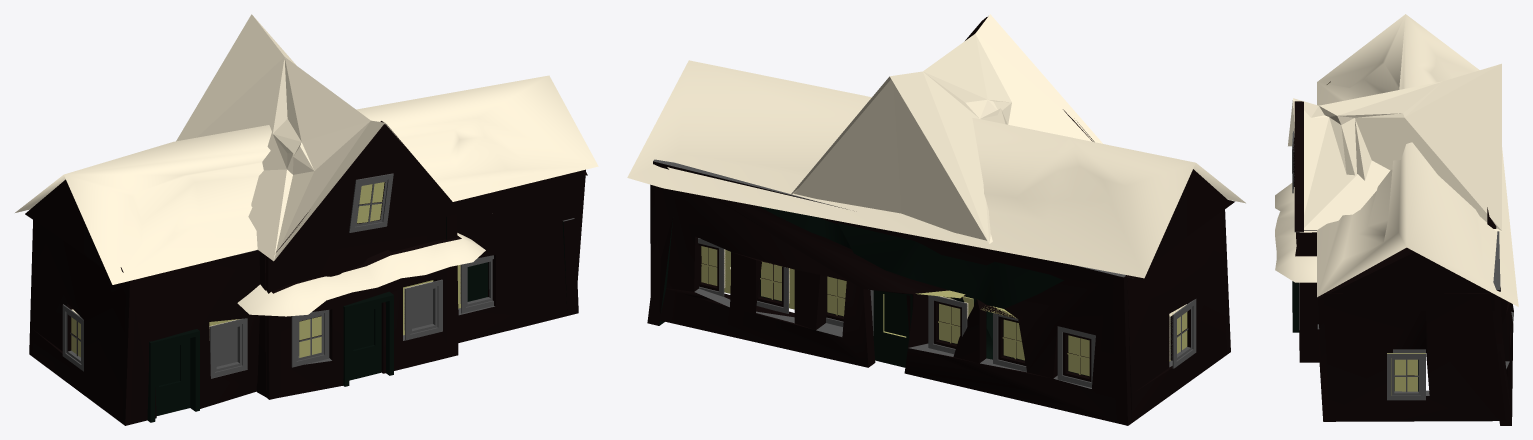
File: CasaEstado3.fbx
3 views of the same model, side by side, from view 1: azimuth 30°, elevation 25°; view 2: azimuth 150°, elevation 25°; view 3: azimuth 270°, elevation 25° (orthographic). The views are drawn at different scales.
Visible parts, largest first — view 1: Wall001, Plane001, Plane002, Box001, Plane003, PivotDoor002, PivotDoor001, Box003, AwningWindow002, AwningWindow005, AwningWindow010, AwningWindow011 (+4 smaller); view 2: Wall001, Plane001, Plane002, Box002, Box003, PivotDoor003, AwningWindow004, AwningWindow007, AwningWindow012, AwningWindow008, AwningWindow009, AwningWindow006 (+5 smaller); view 3: Wall001, Plane001, Plane002, Box004, Plane003, Box001, AwningWindow013, Box041, PivotDoor001.
Boxes of the visible parts, <box> form: Wall001: <box>29,169,585,425</box>; Plane001: <box>15,75,598,284</box>; Plane002: <box>176,14,402,261</box>; Box001: <box>276,121,461,256</box>; Plane003: <box>237,233,485,316</box>; PivotDoor002: <box>147,329,199,422</box>; PivotDoor001: <box>343,291,393,386</box>; Box003: <box>25,179,123,272</box>; AwningWindow002: <box>403,279,442,340</box>; AwningWindow005: <box>209,318,247,378</box>; AwningWindow010: <box>457,255,493,313</box>; AwningWindow011: <box>349,173,393,232</box>; Wall001: <box>647,159,1230,425</box>; Plane001: <box>627,60,1245,278</box>; Plane002: <box>790,14,1102,243</box>; Box002: <box>794,79,986,240</box>; Box003: <box>1125,169,1234,278</box>; PivotDoor003: <box>870,290,912,367</box>; AwningWindow004: <box>928,295,973,354</box>; AwningWindow007: <box>1057,326,1095,387</box>; AwningWindow012: <box>1169,299,1196,368</box>; AwningWindow008: <box>698,238,730,296</box>; AwningWindow009: <box>756,266,794,313</box>; AwningWindow006: <box>993,313,1026,371</box>; Wall001: <box>1299,230,1513,425</box>; Plane001: <box>1317,14,1518,306</box>; Plane002: <box>1288,63,1501,232</box>; Box004: <box>1318,247,1494,310</box>; Plane003: <box>1275,183,1316,282</box>; Box001: <box>1294,101,1303,232</box>; AwningWindow013: <box>1387,349,1425,400</box>; Box041: <box>1394,359,1417,391</box>; PivotDoor001: <box>1292,281,1299,332</box>.
Bounding box in the file's own units: 214 × 121 × 102.
